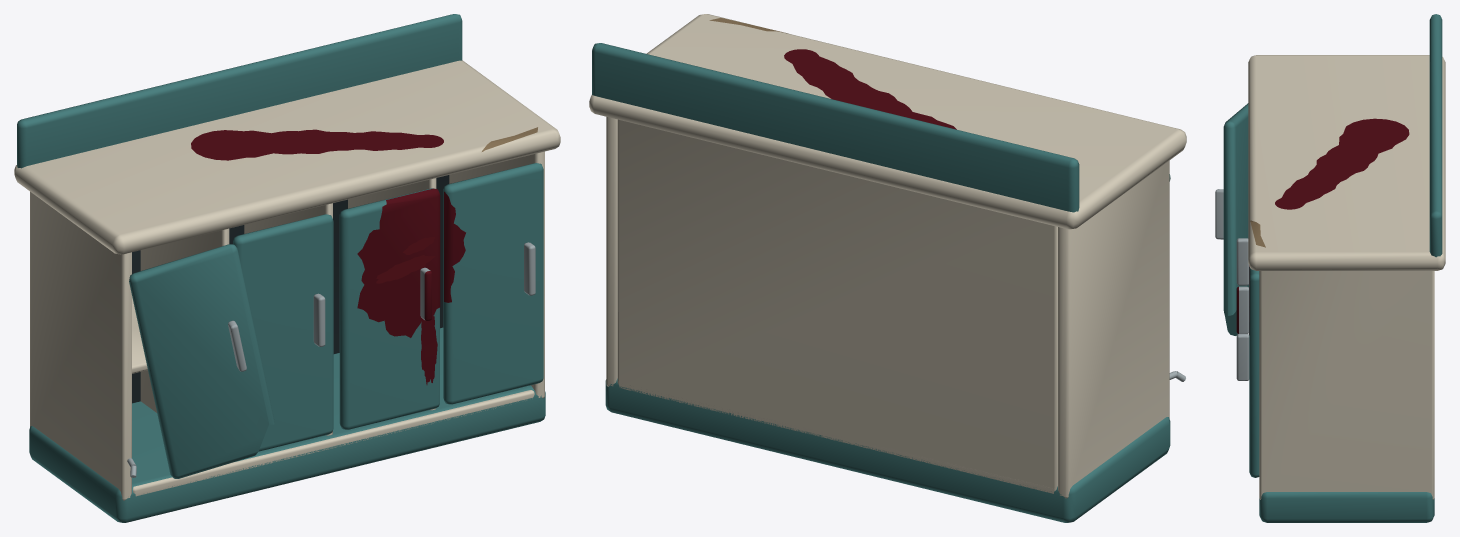
Rendered from prep_storage.glb.
The picture shows the model from 3 angles, left to right: view 1: azimuth 30°, elevation 25°; view 2: azimuth 150°, elevation 25°; view 3: azimuth 270°, elevation 25°; orthographic projection. The views are drawn at different scales.
Visible parts, largest first — view 1: OB_PrepStorage_01_Static; view 2: OB_PrepStorage_01_Static; view 3: OB_PrepStorage_01_Static.
Part boxes in pixels (x1,y1,x2,y2): OB_PrepStorage_01_Static: (14,14,560,522); OB_PrepStorage_01_Static: (589,14,1186,522); OB_PrepStorage_01_Static: (1215,14,1445,522).
Size of the model in its own units: 1.51 by 1.09 by 0.7233.
